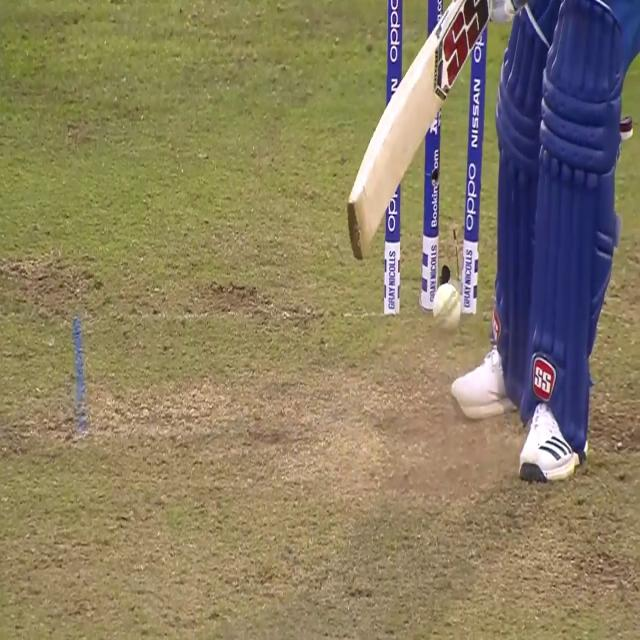ball: (432, 284, 462, 336)
